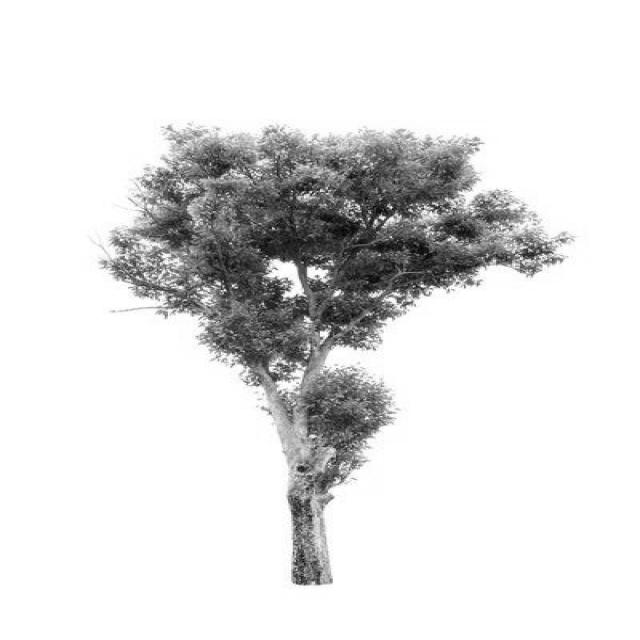Tree: (100, 126, 570, 586)
